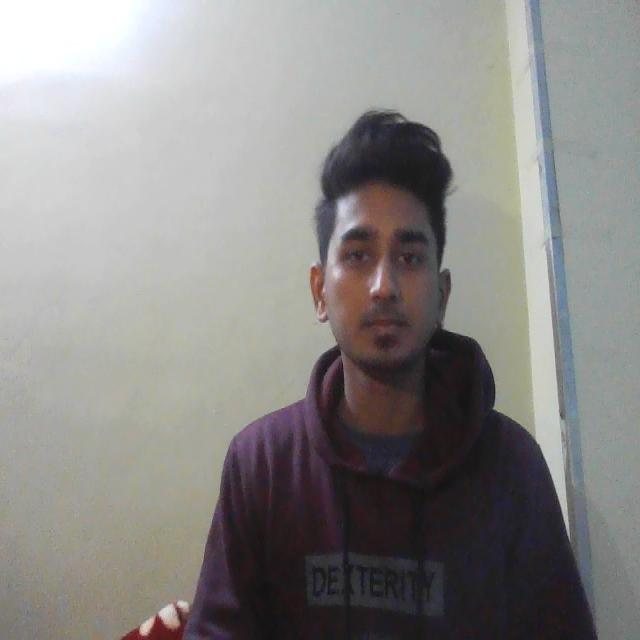real: (322, 140, 454, 389)
